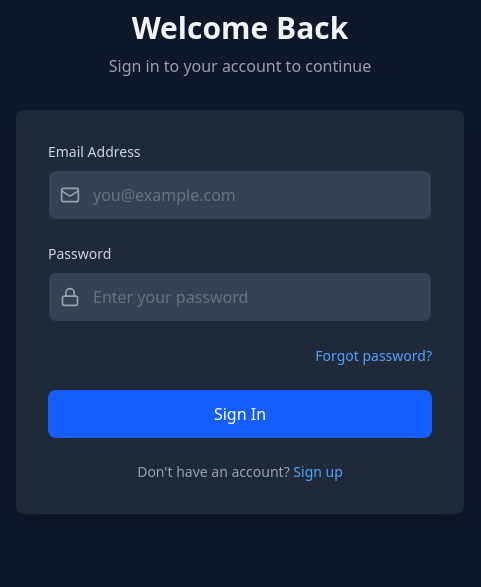
Scenario: Login Page › should validate email field when empty
Click the button "Sign In" at point(240, 414), box [48,390,432,438]
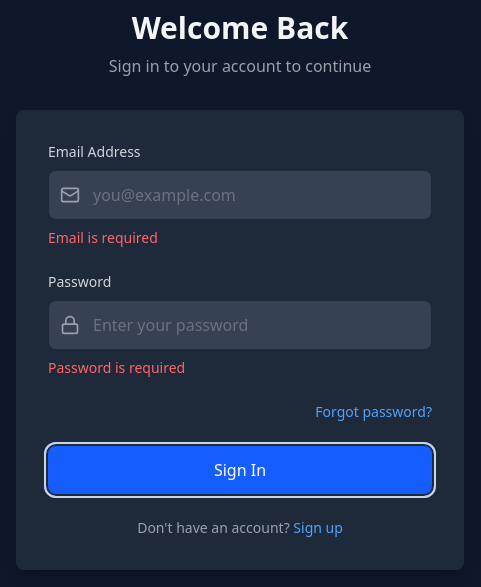
Now the text "Email is required" is shown, box [48,228,158,247]
